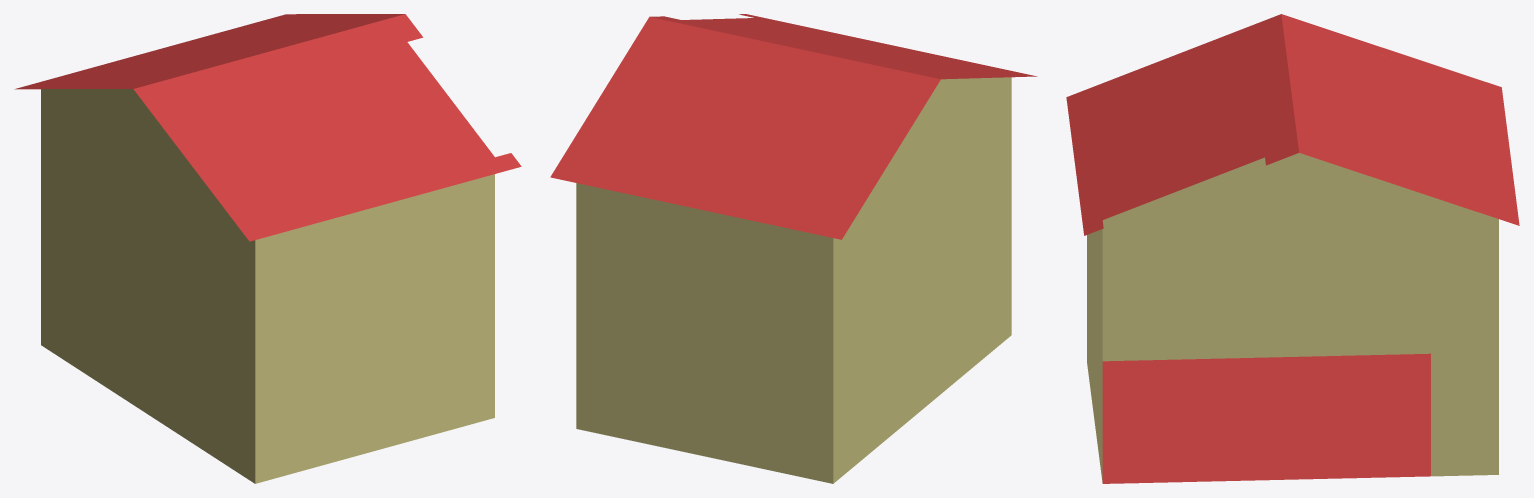
3 renders of one model, left to right at view 1: azimuth 30°, elevation 25°; view 2: azimuth 150°, elevation 25°; view 3: azimuth 270°, elevation 25°, orthographic.
Bounding box in the file's own units: 9.01 × 11.6 × 9.46.
